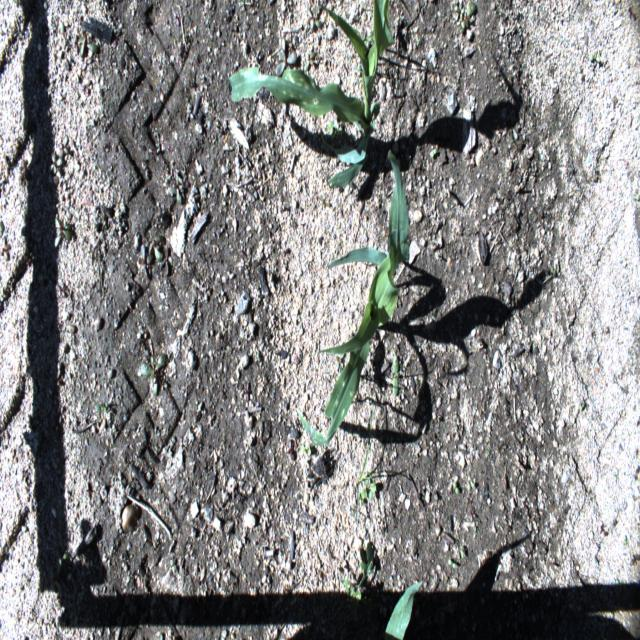crop: (297, 148, 410, 445), (229, 0, 395, 189), (383, 578, 423, 639)
weed: (356, 404, 375, 525), (145, 353, 167, 395), (342, 577, 364, 615), (456, 4, 477, 34), (359, 541, 372, 584), (360, 473, 378, 502), (276, 49, 297, 72), (155, 247, 171, 276), (390, 357, 401, 398), (52, 220, 72, 242), (77, 35, 99, 53), (307, 5, 322, 29), (326, 119, 343, 136), (588, 50, 601, 70), (299, 442, 309, 468), (304, 50, 316, 68), (318, 194, 331, 207), (459, 543, 466, 562), (551, 260, 558, 279), (95, 404, 106, 416), (58, 551, 69, 561), (453, 480, 459, 496), (578, 401, 585, 413), (449, 560, 457, 570), (472, 519, 477, 535), (466, 483, 476, 490), (431, 146, 438, 156), (0, 219, 4, 234), (526, 93, 530, 108), (614, 469, 618, 482)
